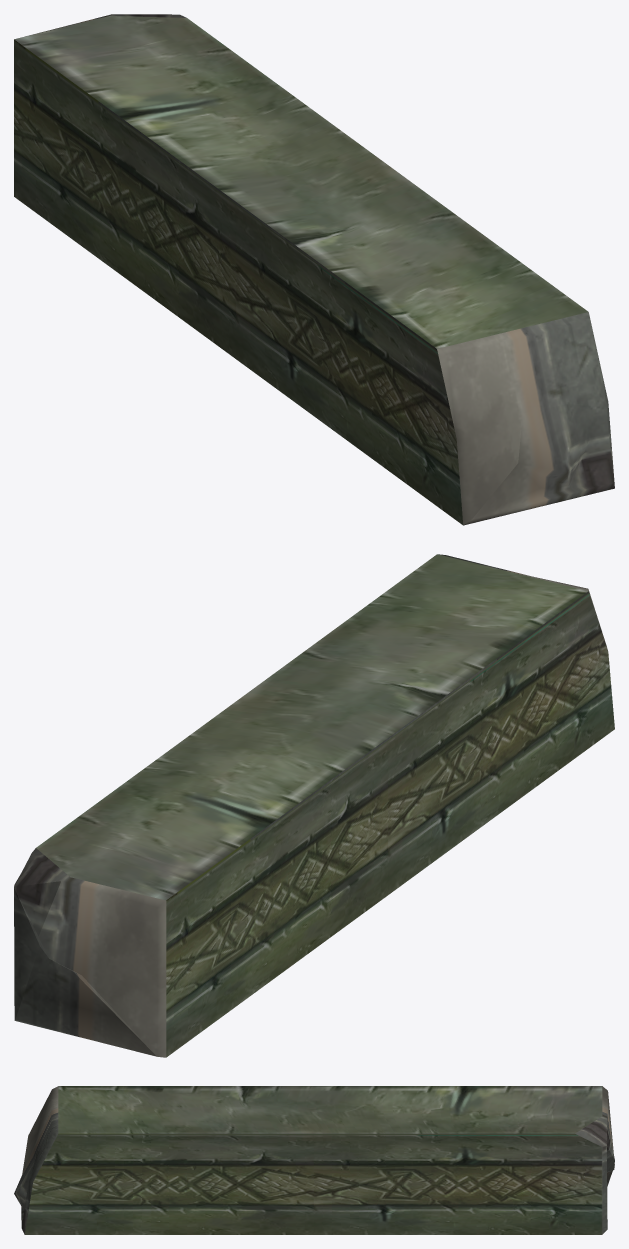
The model's file is F_waiqiang008.fbx.
The picture shows the model from 3 angles, top to bottom: view 1: azimuth 30°, elevation 25°; view 2: azimuth 150°, elevation 25°; view 3: azimuth 270°, elevation 25°; orthographic projection. The views are drawn at different scales.
Parts seen in each view (by area): view 1: F_waiqiang008; view 2: F_waiqiang008; view 3: F_waiqiang008.
Boxes of the visible parts, x1,y1,x2,y2 form: F_waiqiang008: (14,14,614,525); F_waiqiang008: (14,554,614,1057); F_waiqiang008: (14,1086,614,1234).
Bounding box in the file's own units: 27.36 × 27.12 × 146.
